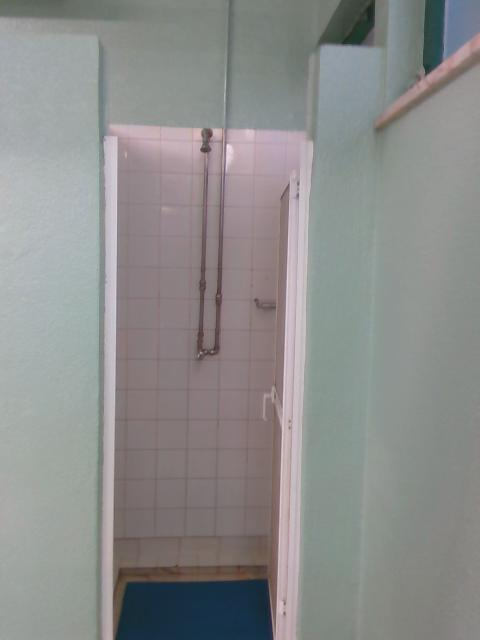open_door: (92, 110, 320, 639)
